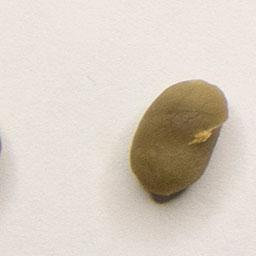peaberry: (125, 75, 232, 202)
